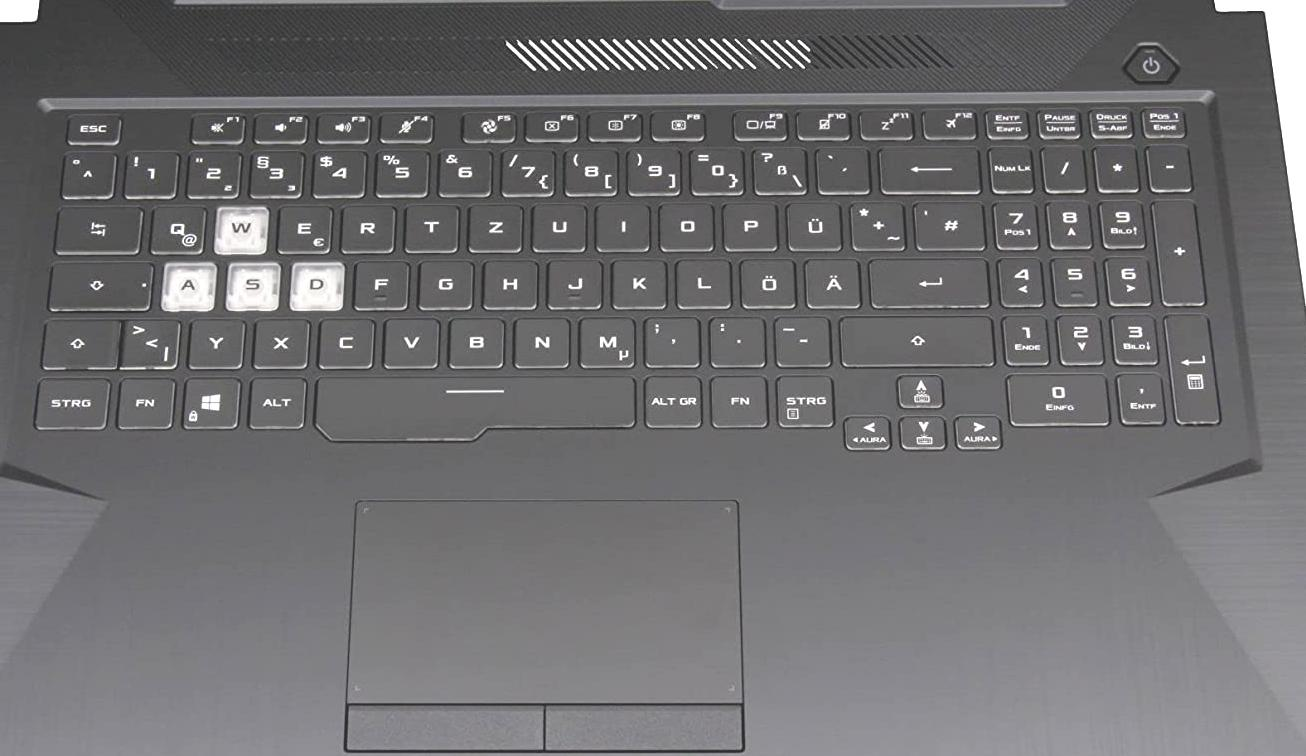0: (687, 143, 744, 193)
1: (121, 147, 177, 196)
2: (184, 147, 240, 196)
3: (246, 147, 303, 196)
4: (309, 147, 366, 196)
5: (373, 147, 429, 195)
6: (436, 146, 492, 195)
7: (499, 144, 555, 195)
8: (562, 144, 618, 194)
9: (625, 143, 680, 193)
a: (158, 259, 216, 310)
accent: (814, 147, 871, 196)
ae: (802, 254, 860, 308)
alt-left: (246, 373, 307, 429)
altgr-right: (641, 372, 703, 428)
b: (445, 314, 505, 367)
c: (316, 313, 375, 367)
caret: (59, 148, 114, 197)
comma: (641, 313, 699, 366)
d: (288, 259, 344, 311)
del: (875, 142, 980, 193)
e: (275, 200, 332, 252)
enter: (866, 255, 990, 307)
f: (351, 256, 408, 309)
g: (415, 256, 473, 309)
h: (480, 255, 537, 308)
hash: (911, 197, 985, 250)
i: (593, 198, 648, 249)
j: (545, 254, 602, 308)
k: (608, 254, 666, 308)
keyboard: (20, 92, 1258, 467)
l: (673, 254, 730, 307)
less: (120, 315, 179, 367)
m: (575, 312, 636, 368)
minus: (770, 313, 830, 365)
n: (511, 313, 571, 368)
o: (657, 199, 713, 249)
oe: (737, 255, 795, 307)
p: (721, 199, 776, 249)
plus: (846, 197, 904, 249)
point: (706, 313, 764, 366)
q: (147, 201, 205, 253)
r: (338, 200, 395, 251)
s: (224, 260, 280, 310)
shift-left: (38, 317, 117, 369)
shift-lock: (44, 258, 154, 311)
shift-right: (835, 312, 994, 366)
space: (312, 371, 635, 445)
ss: (750, 143, 806, 192)
strg-left: (30, 374, 111, 429)
strg-right: (772, 371, 836, 427)
t: (402, 200, 458, 251)
tab: (51, 203, 143, 253)
u: (530, 199, 586, 250)
ue: (784, 197, 840, 249)
v: (381, 313, 439, 367)
w: (211, 201, 269, 254)
x: (251, 314, 309, 367)
y: (186, 315, 244, 368)
z: (466, 200, 523, 250)
